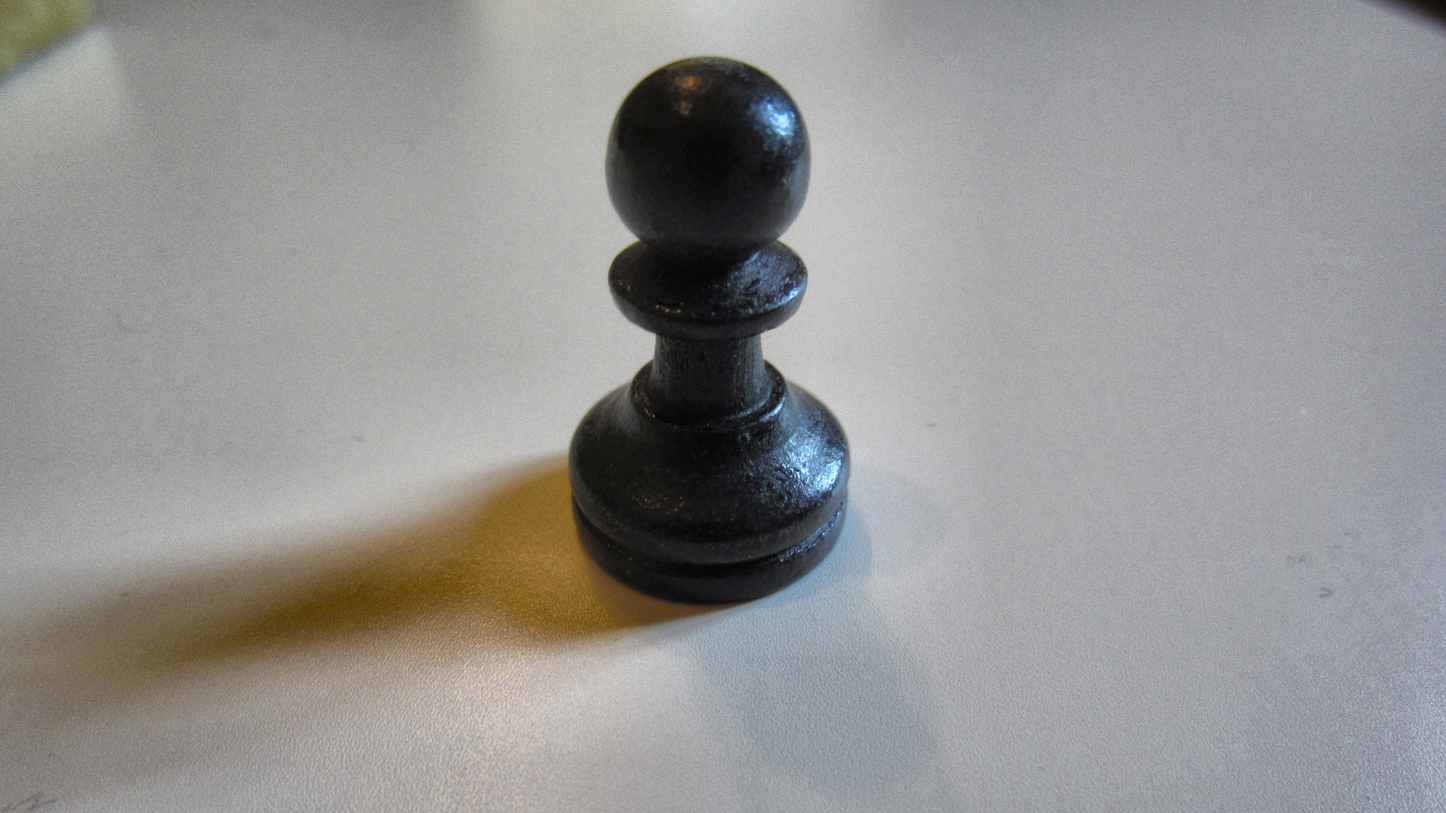black-pawn: (553, 54, 857, 610)
